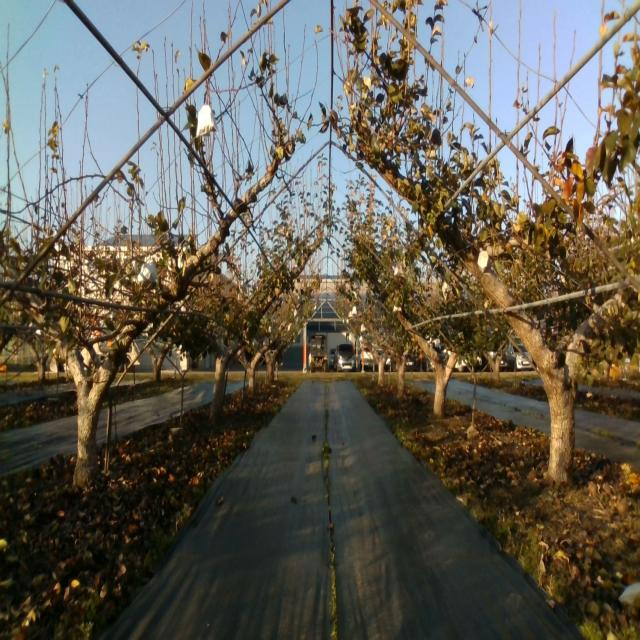pearbags: (195, 104, 219, 143), (138, 254, 158, 284), (477, 247, 490, 273)
